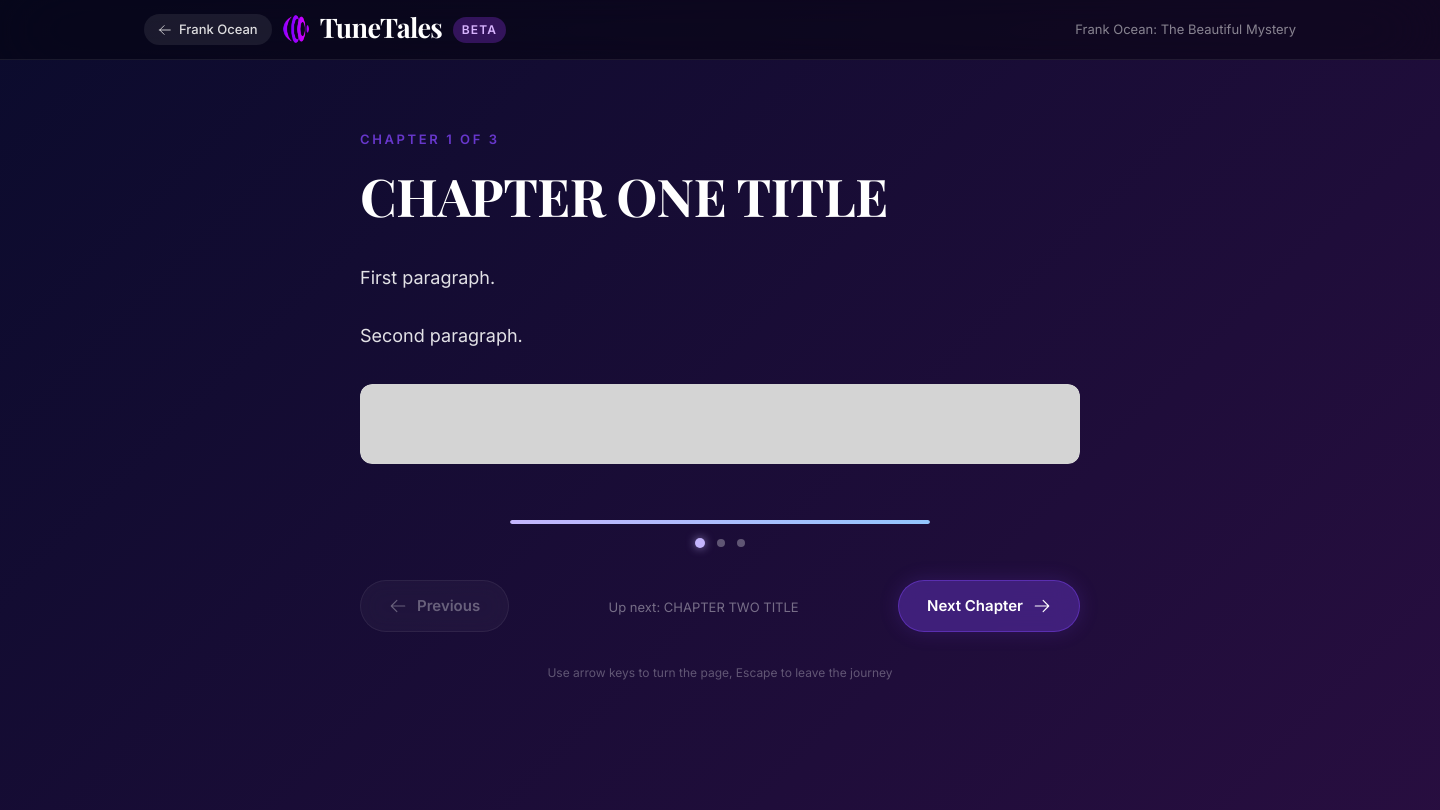
Test case: JourneyClient › advances to the next chapter on Next click
Click the button "Next Chapter" at (989, 606), box [898,580,1080,632]
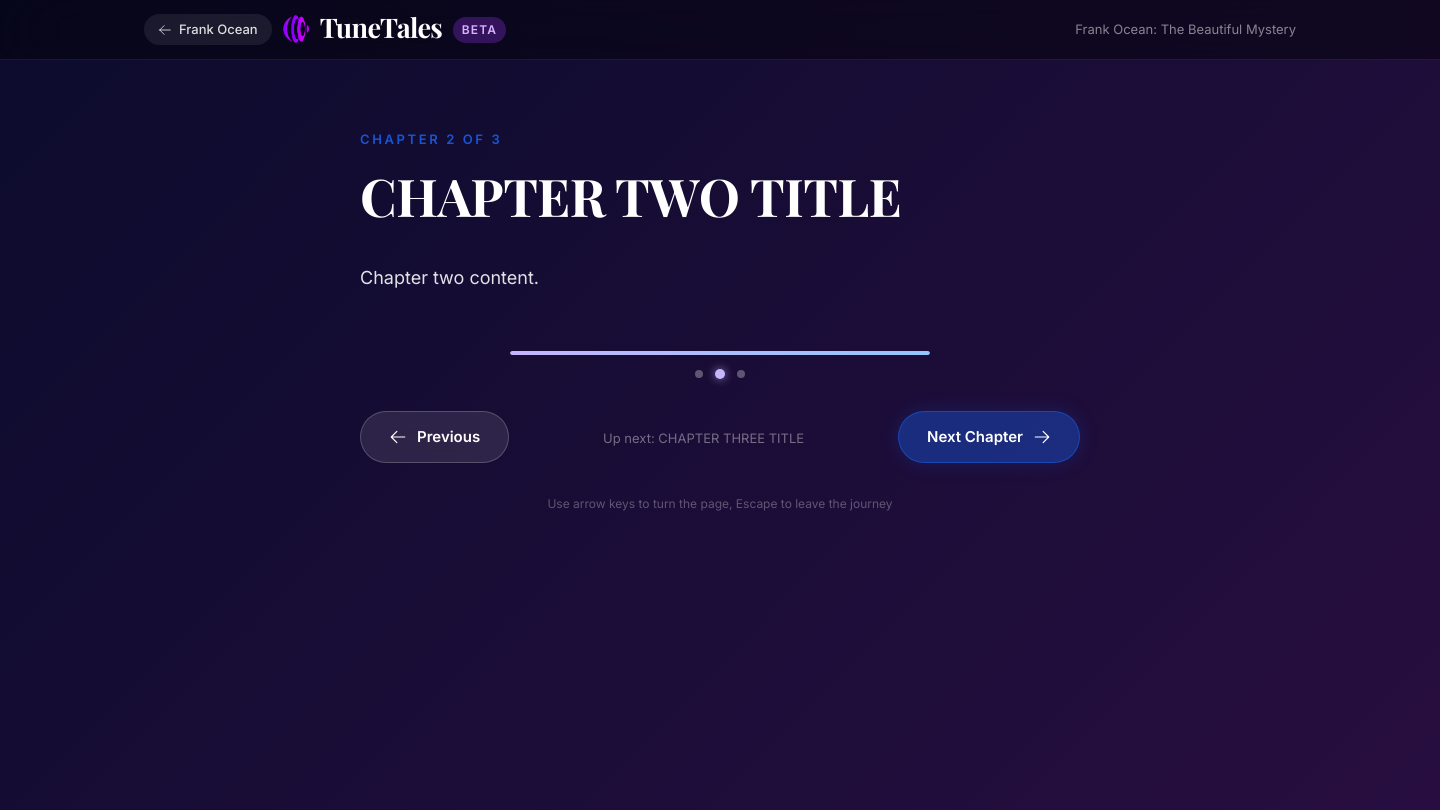
Expected: the heading "CHAPTER TWO TITLE" is shown, [360,160,901,230]
